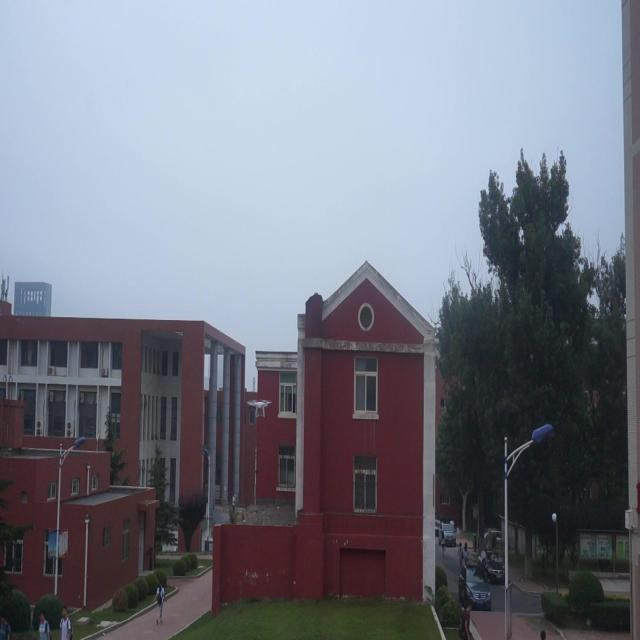drone: (247, 397, 272, 417)
